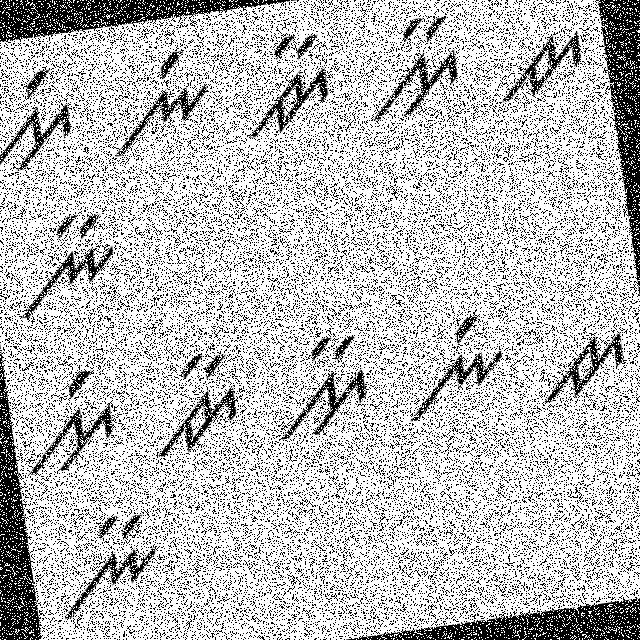ja: (517, 299, 639, 415), (478, 20, 594, 119)
jan: (222, 26, 350, 146), (138, 342, 250, 467)
nyan: (40, 506, 175, 628), (2, 208, 126, 326)
nyang: (93, 40, 223, 171), (383, 304, 515, 427)
san: (258, 322, 386, 455), (356, 9, 471, 130)
sang: (16, 360, 132, 478), (0, 54, 91, 184)
